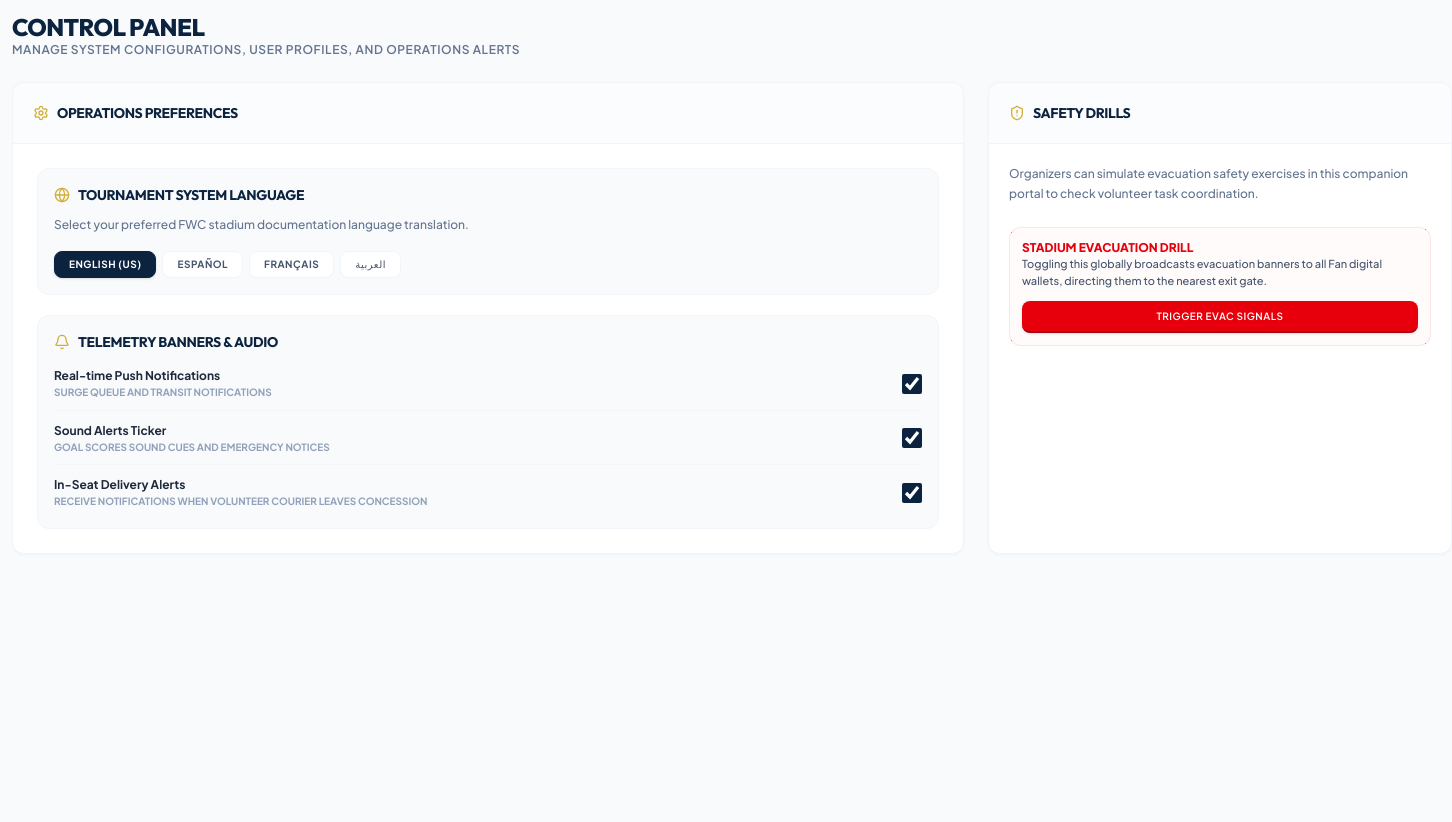
it: Settings Page › toggles evacuation drills safety mode
Click to trigger evacuation drill
Click the button "TRIGGER EVAC SIGNALS".
click(1220, 317)  # box [1022, 301, 1418, 333]
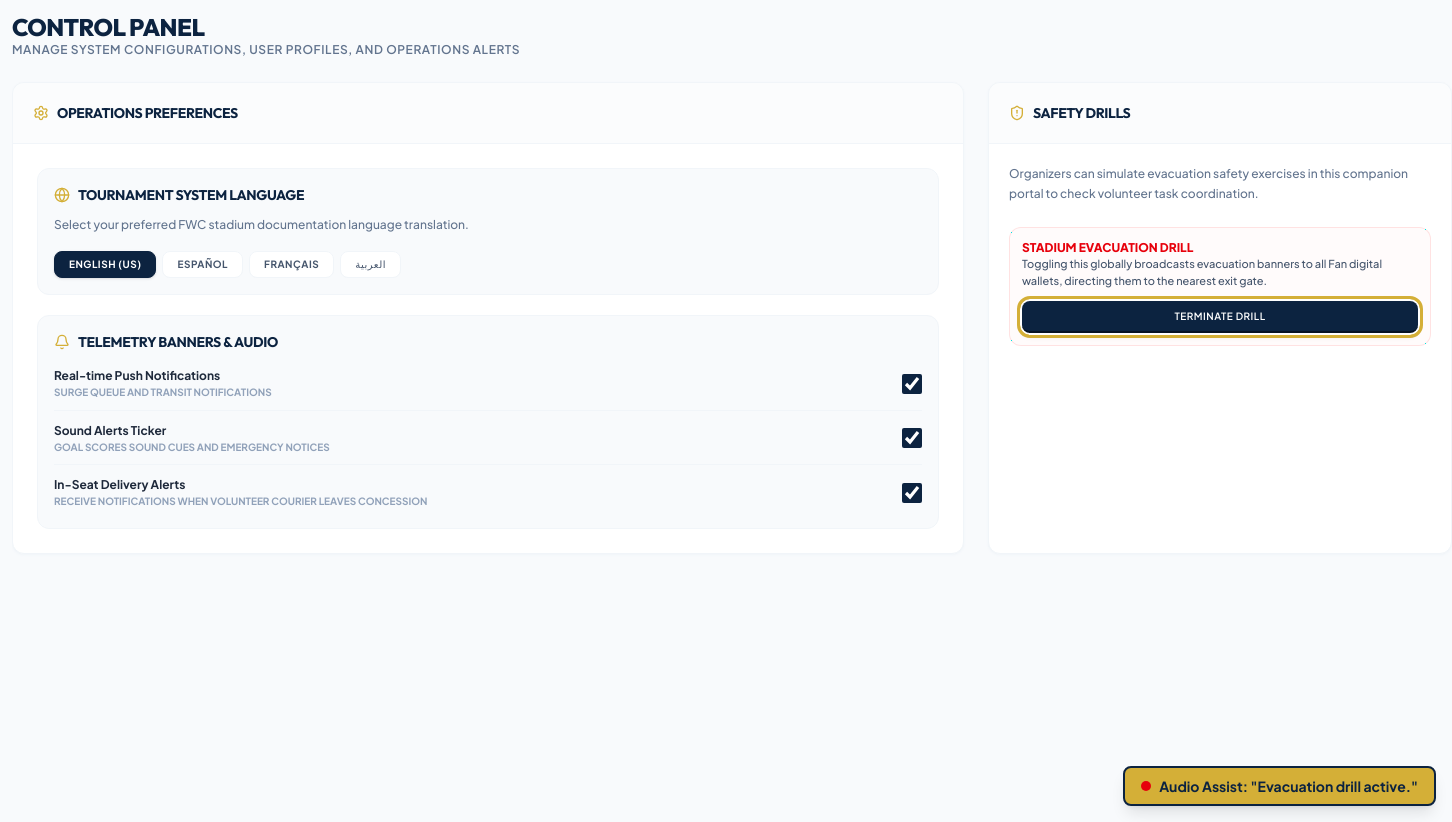
Now the button "TERMINATE DRILL" is shown
Click again to terminate drill
Click the button "TERMINATE DRILL".
click(1220, 317)  # box [1022, 301, 1418, 333]
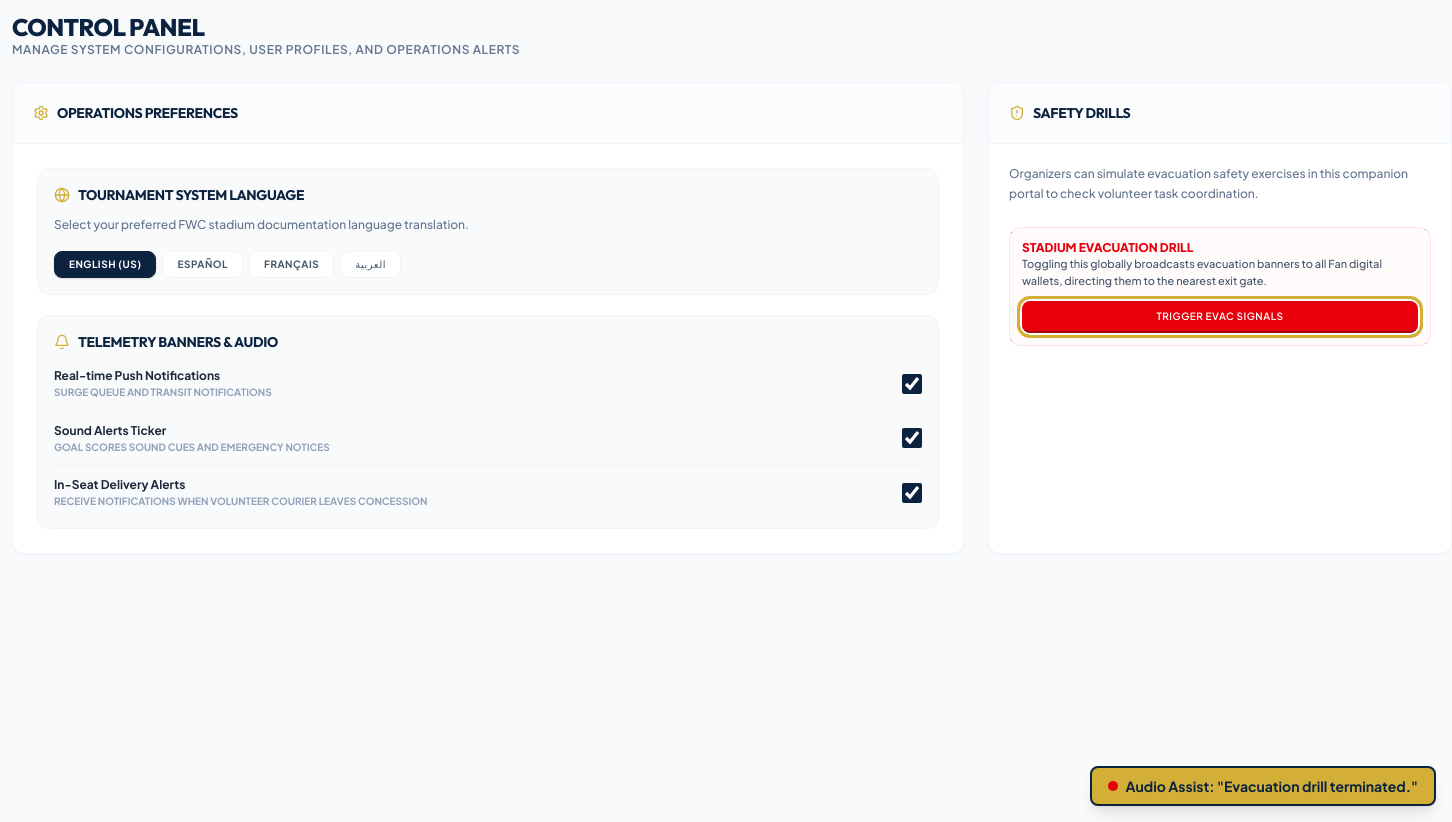
Now the button "TRIGGER EVAC SIGNALS" is shown, box [1022, 301, 1418, 333]
